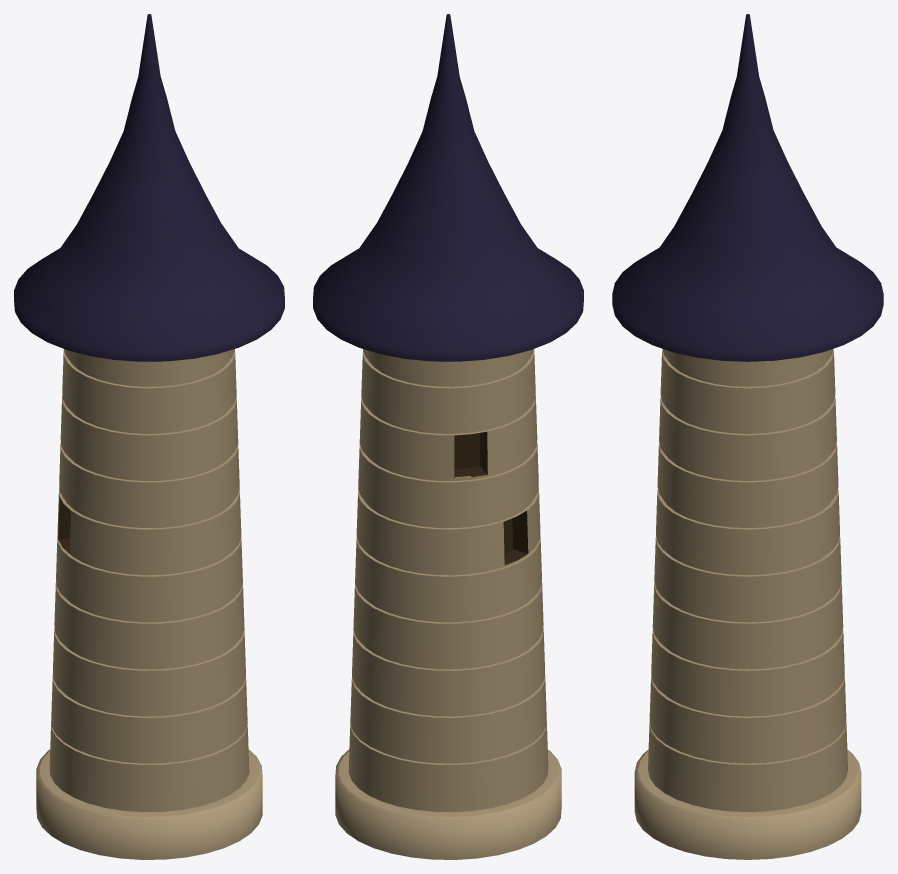
The model's file is petite-tour.fbx.
The picture shows the model from 3 angles, left to right: view 1: azimuth 30°, elevation 25°; view 2: azimuth 150°, elevation 25°; view 3: azimuth 270°, elevation 25°; orthographic projection.
Parts seen in each view (by area): view 1: Tour.001; view 2: Tour.001; view 3: Tour.001.
Boxes of the visible parts, x1,y1,x2,y2 form: Tour.001: (14,14,284,859); Tour.001: (313,14,583,859); Tour.001: (612,14,883,859).
Bounding box in the file's own units: 431 × 1395 × 431.
